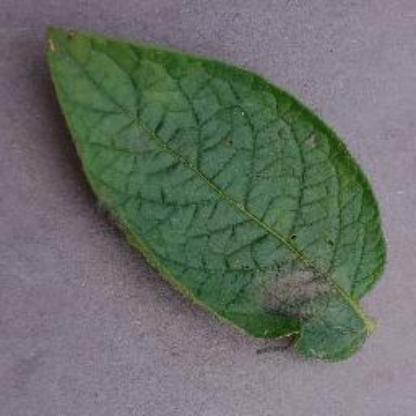Late-Blight: (35, 21, 393, 363)
